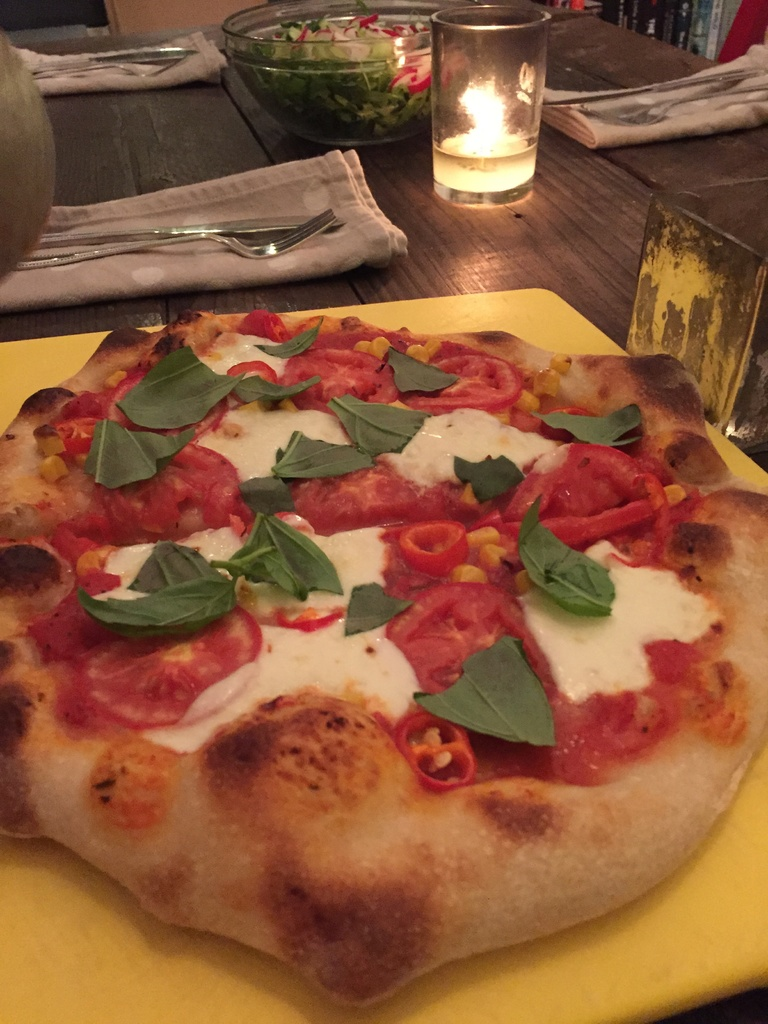Pizza: (0, 301, 767, 1009)
